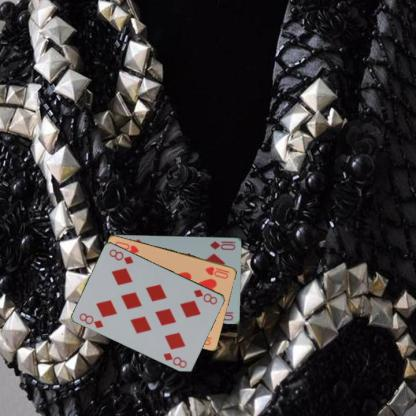10d: (207, 238, 237, 250)
10h: (203, 264, 230, 280)
8d: (191, 286, 219, 306), (77, 310, 104, 330)
